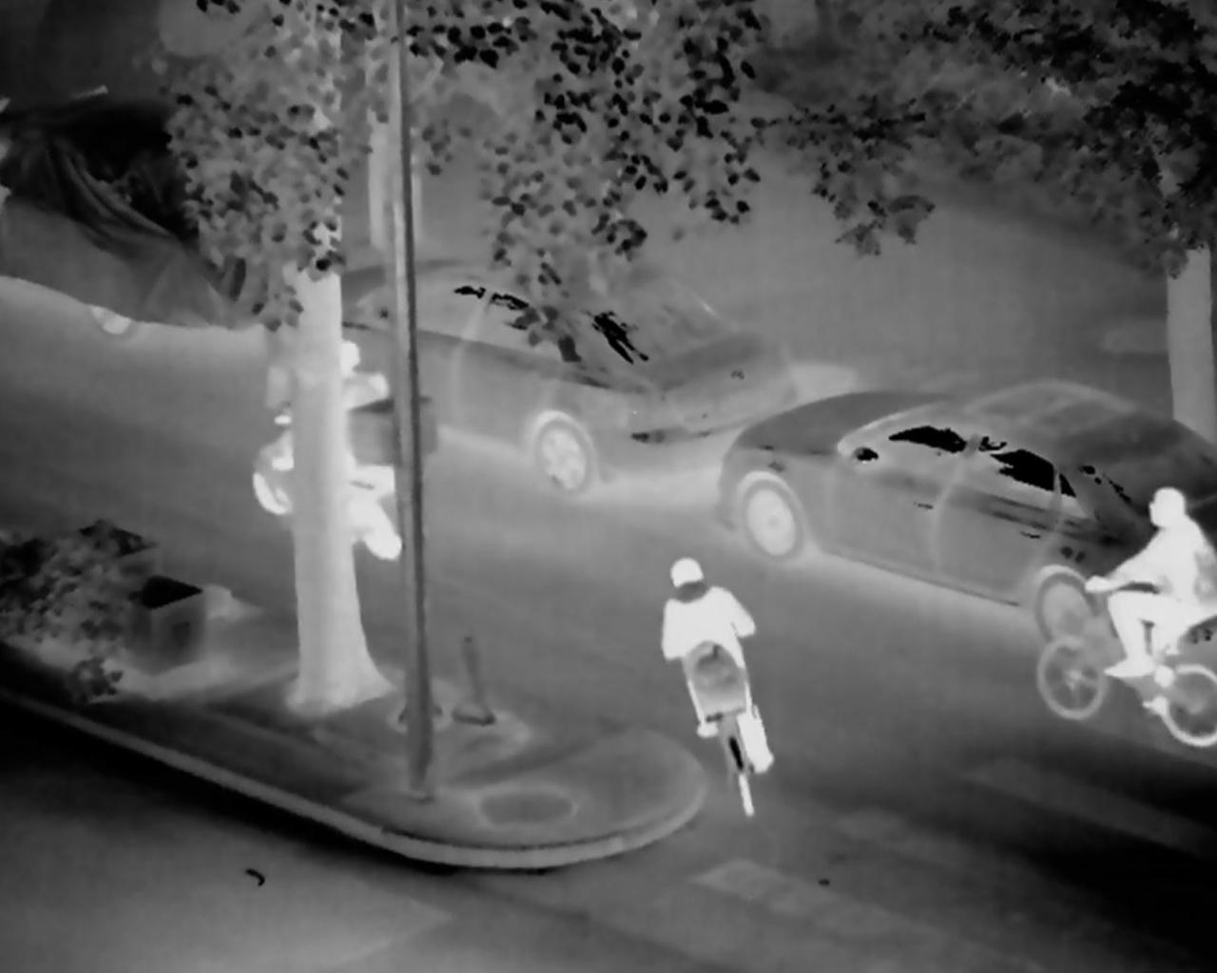person: (661, 560, 783, 810), (1089, 487, 1217, 717), (283, 337, 379, 514)
